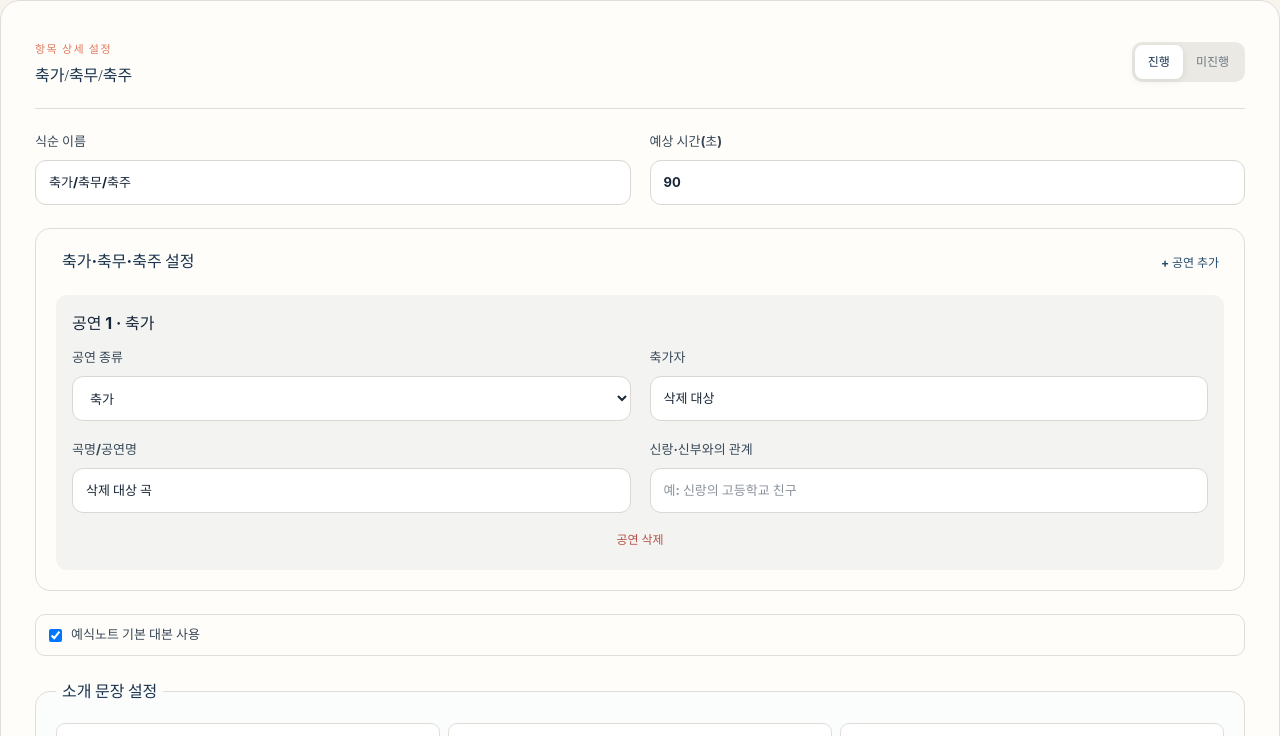
Owner 최종 확인 W4.1 개선 › 마지막 공연 카드를 직접 삭제하면 재생성하지 않고 빈 상태와 첫 공연 추가를 표시한다
The width and height of the screenshot is (1280, 736).
Step 1. Click the button "공연 삭제" → (640, 540), box [72,526,1208,554]
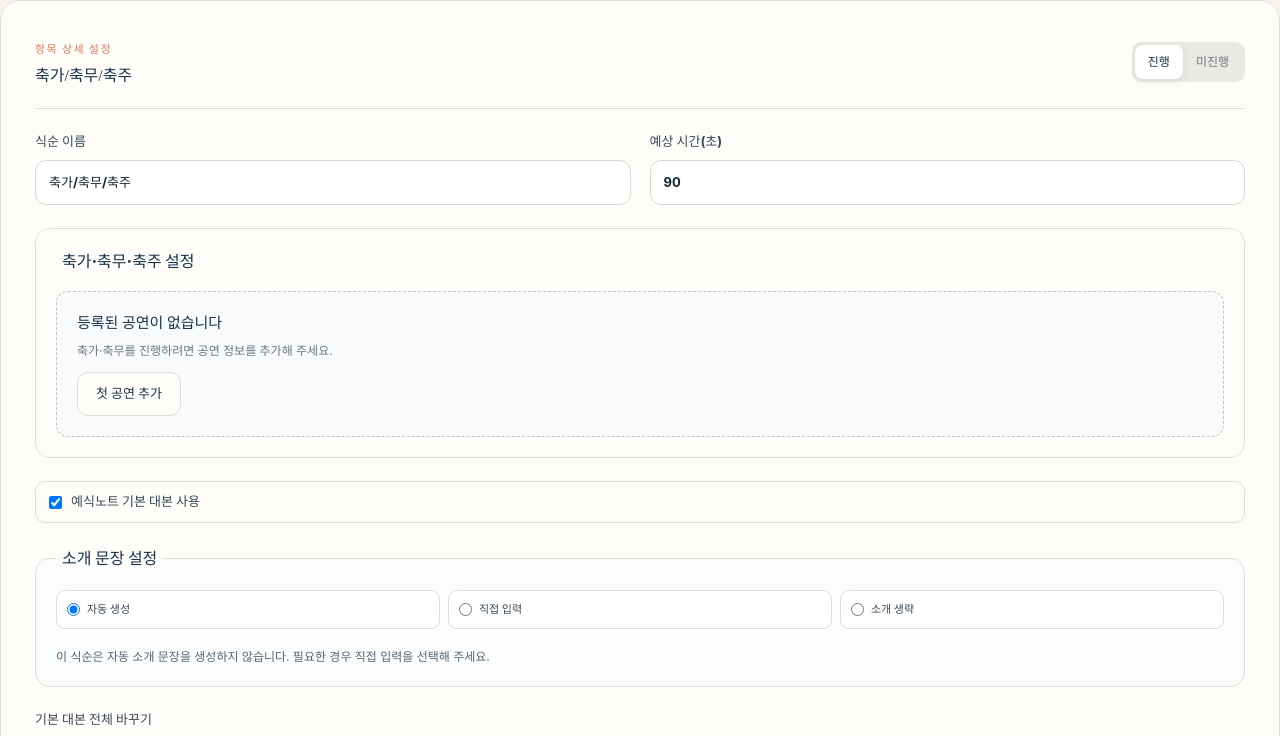
Expected: the text "등록된 공연이 없습니다" is shown, [77,312,222,334]
Expected: the text "축가·축무를 진행하려면 공연 정보를 추가해 주세요." is shown, [77,342,333,360]
Expected: the button "첫 공연 추가" is shown, [77,372,181,416]
